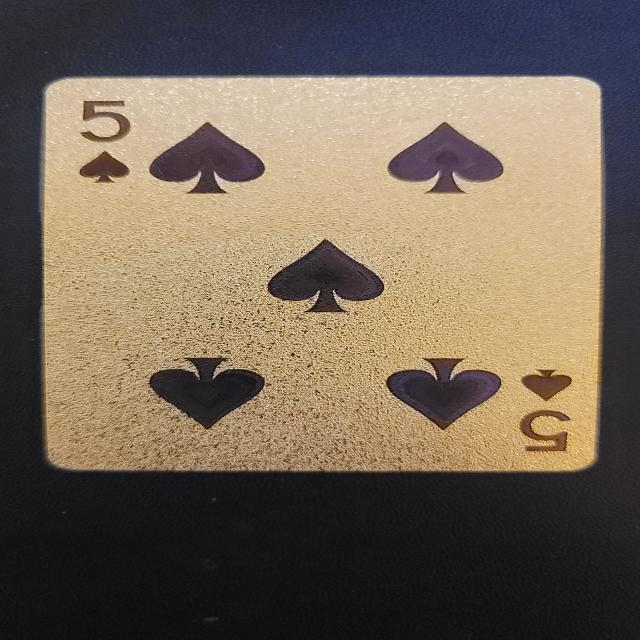5 of spades: (39, 76, 604, 474)
